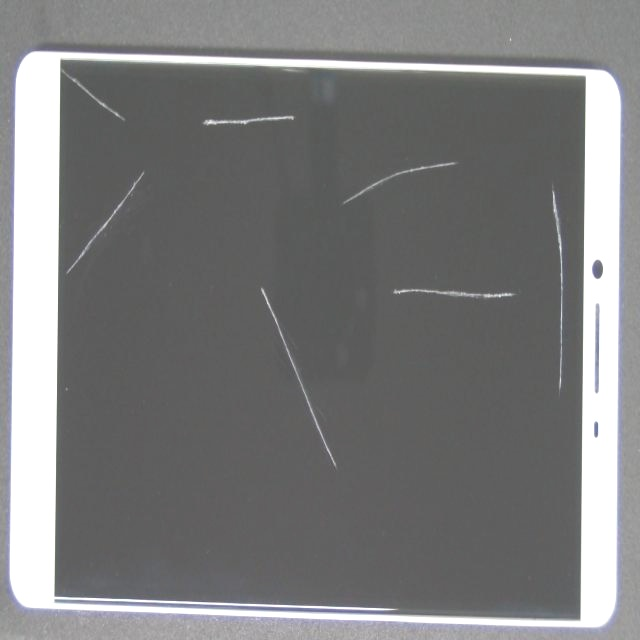scratch: (85, 40, 431, 540), (266, 269, 640, 597), (329, 146, 640, 415), (306, 50, 640, 234), (84, 125, 222, 281), (207, 40, 382, 149)
